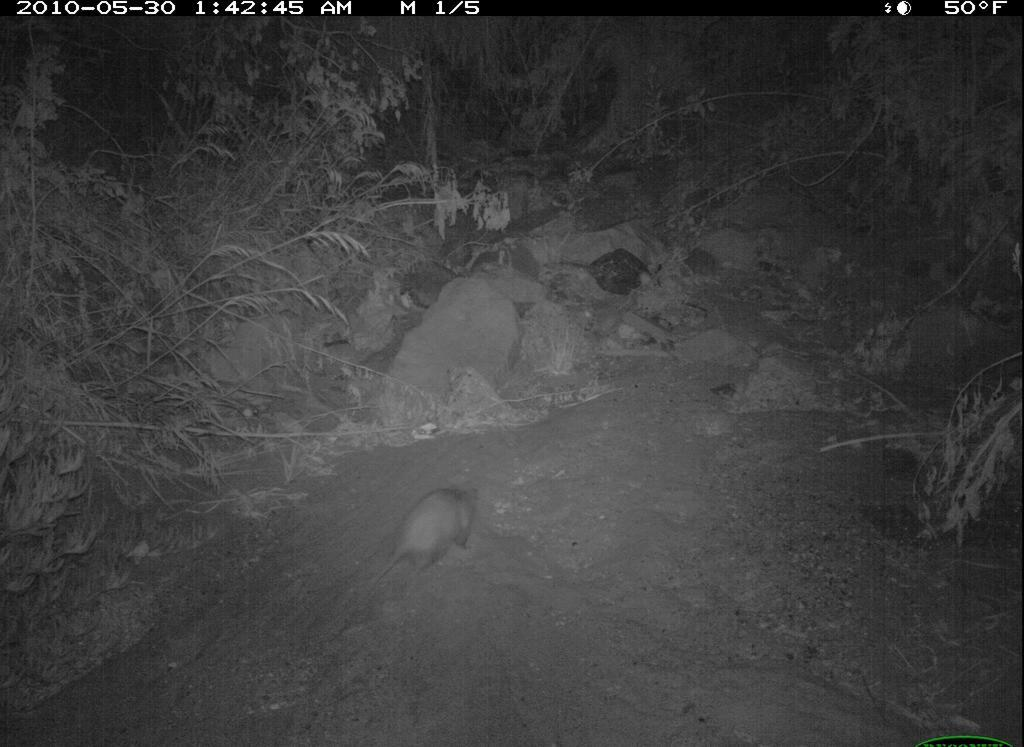opossum: (356, 477, 491, 605)
